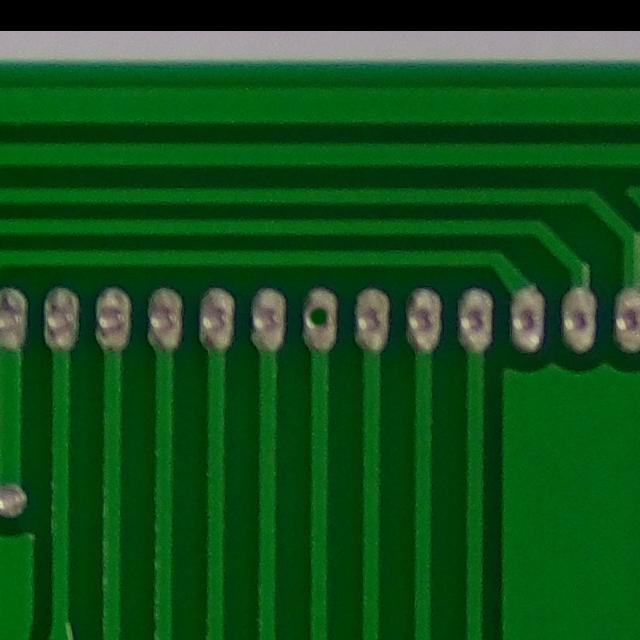missing_hole: (294, 288, 347, 352)
